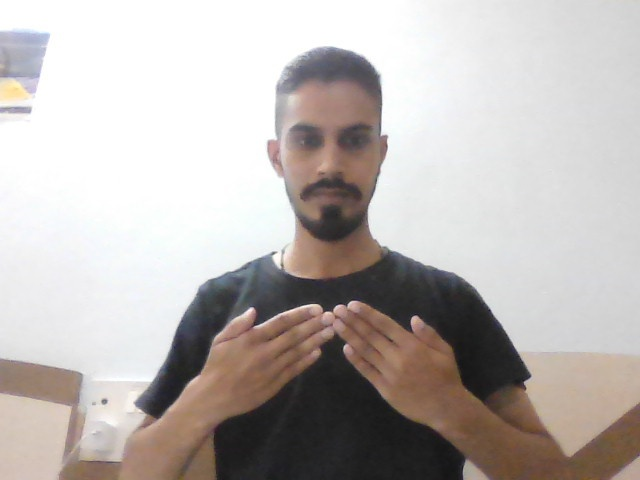ThankYou: (210, 297, 460, 428)
